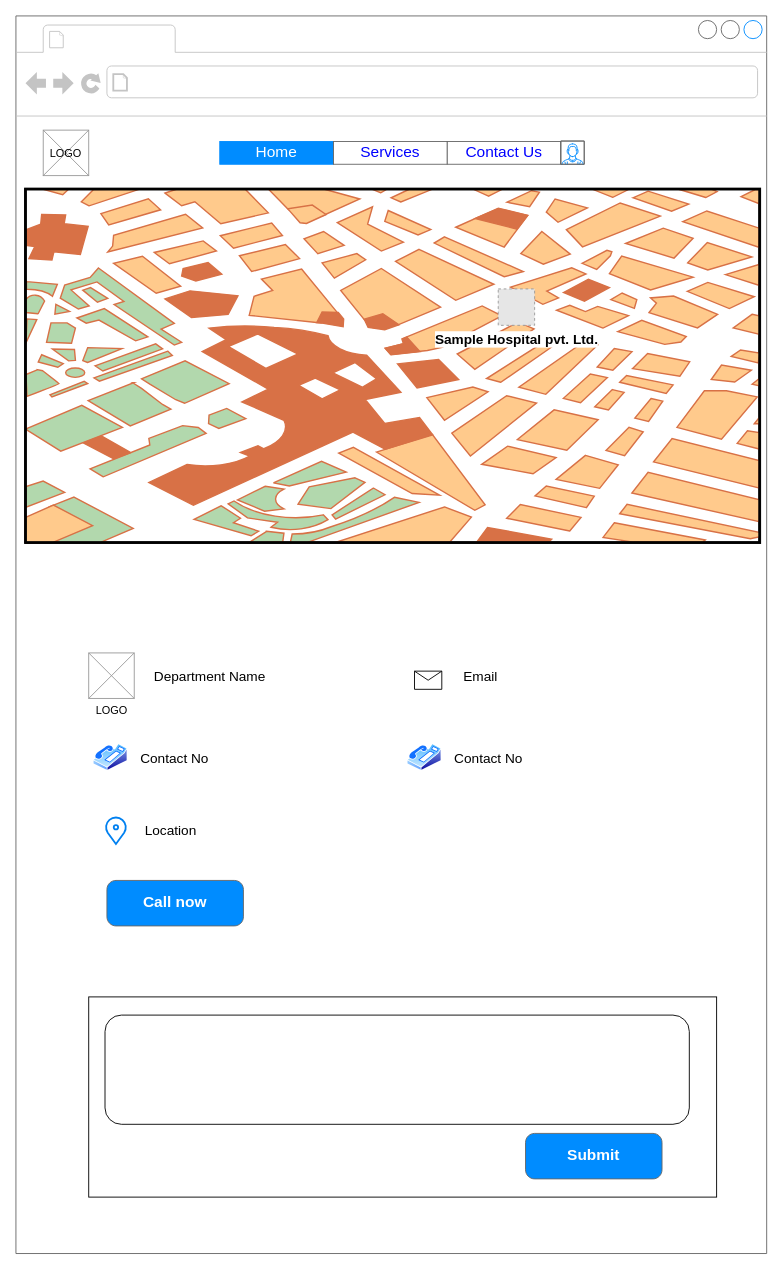
This 783x1269 diagram has some shape labels left out. Grey dashed boxes stand in for pictures. Each missing label, with the centre of its shape:
"https://www.rapidreach.com/page-ui" goes at (x=329, y=82).
"Rapid Reach" goes at (x=120, y=38).
"Write a comment..." goes at (x=396, y=1069).
